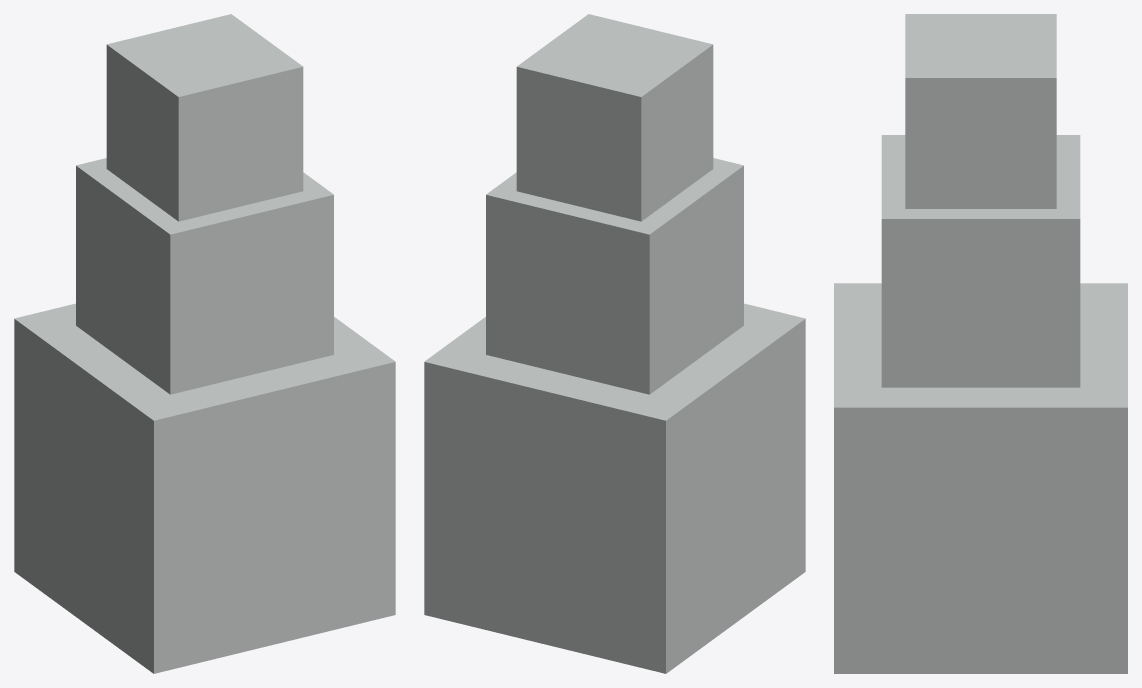
Rendered from Snowman.fbx.
3 views of the same model, side by side, from view 1: azimuth 30°, elevation 25°; view 2: azimuth 150°, elevation 25°; view 3: azimuth 270°, elevation 25° (orthographic). The views are drawn at different scales.
Parts seen in each view (by area): view 1: Snowman; view 2: Snowman; view 3: Snowman.
Boxes of the visible parts, x1,y1,x2,y2 form: Snowman: (14, 14, 395, 673); Snowman: (424, 14, 805, 673); Snowman: (834, 14, 1127, 673).
Bounding box in the file's own units: 2.23 × 4.75 × 2.23.
1 material, 1 textured.
